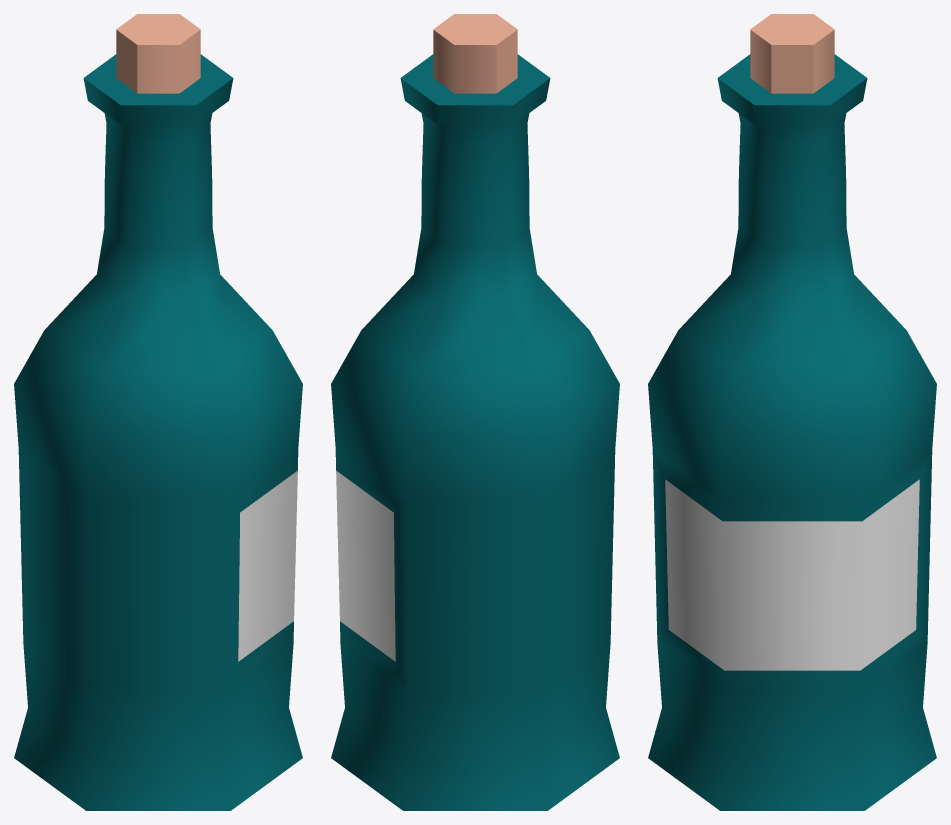
The model's file is bottle.fbx.
The picture shows the model from 3 angles, left to right: view 1: azimuth 30°, elevation 25°; view 2: azimuth 150°, elevation 25°; view 3: azimuth 270°, elevation 25°; orthographic projection.
Parts seen in each view (by area): view 1: Bottle; view 2: Bottle; view 3: Bottle.
Part boxes in pixels (x1,y1,x2,y2): Bottle: (14,14,302,810); Bottle: (331,14,619,810); Bottle: (648,14,936,810).
Bounding box in the file's own units: 12.12 × 38.95 × 14.
